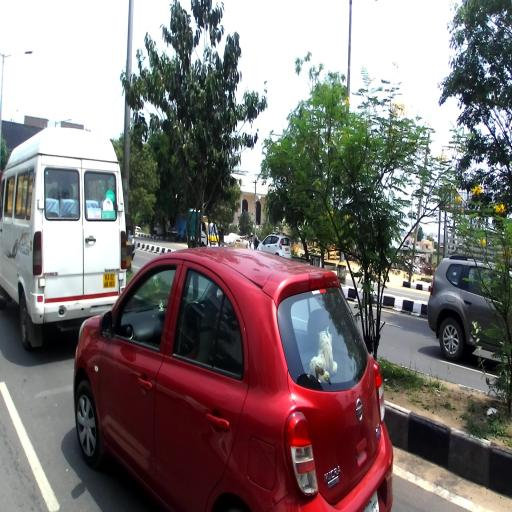street_light_0: (3, 48, 33, 64)
